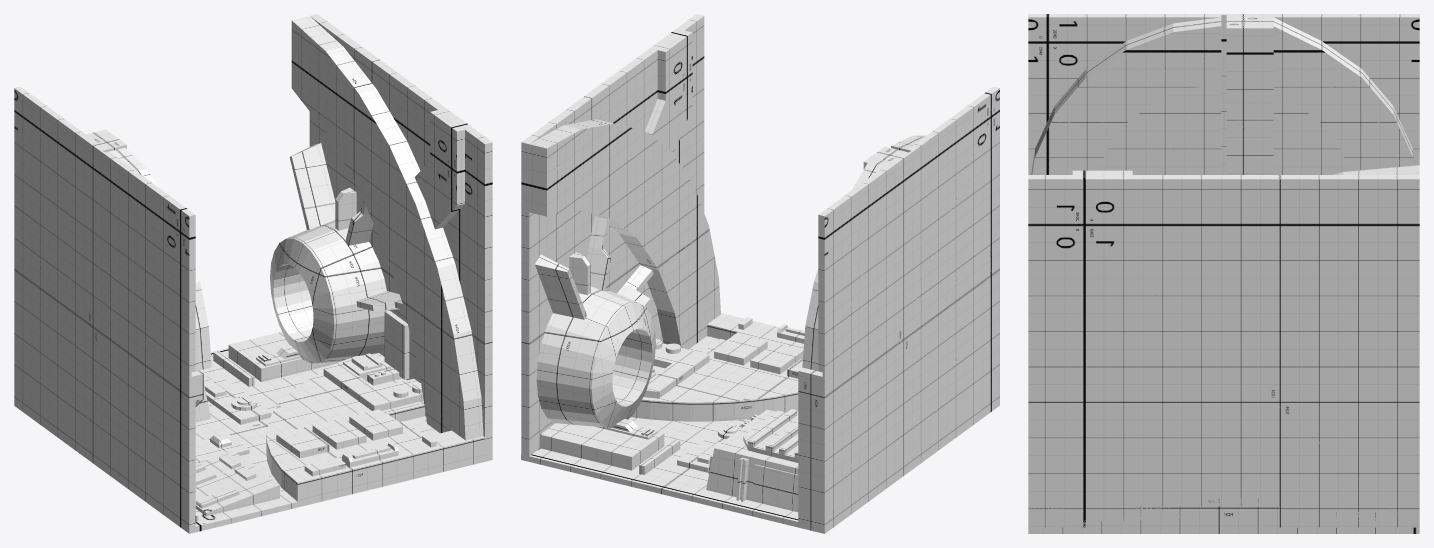
File: JeonLevel4.fbx
3 renders of one model, left to right at view 1: azimuth 30°, elevation 25°; view 2: azimuth 150°, elevation 25°; view 3: azimuth 270°, elevation 25°, orthographic. The views are drawn at different scales.
Parts seen in each view (by area): view 1: 4; view 2: 4; view 3: 4.
Part boxes in pixels (x1=…): 4: x1=14, y1=14, x2=492, y2=533; 4: x1=521, y1=14, x2=999, y2=533; 4: x1=1028, y1=14, x2=1419, y2=533.
Size of the model in its own units: 7500 by 7500 by 7500.
